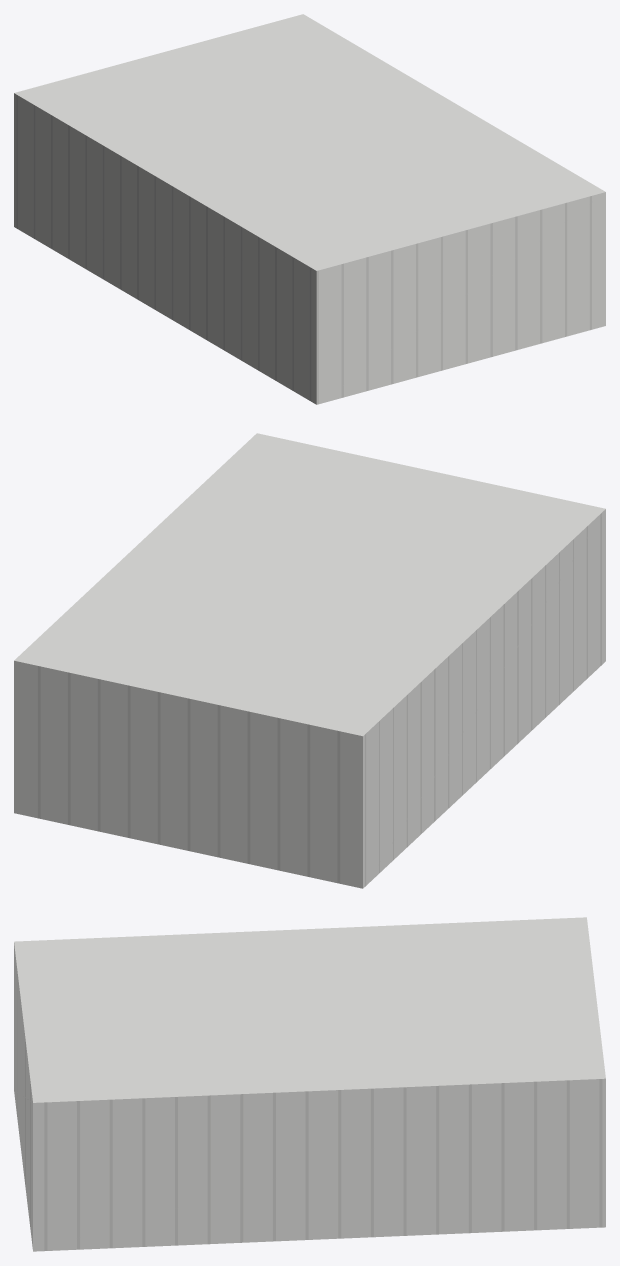
The model's file is haz.glb.
3 views of the same model, one above another, from view 1: azimuth 30°, elevation 25°; view 2: azimuth 150°, elevation 25°; view 3: azimuth 270°, elevation 25° (orthographic). The views are drawn at different scales.
Parts seen in each view (by area): view 1: haz walls, haz roof; view 2: haz roof, haz walls; view 3: haz roof, haz walls.
Boxes of the visible parts, x1,y1,x2,y2 form: haz walls: [14, 93, 605, 404]; haz roof: [14, 14, 605, 270]; haz roof: [14, 433, 605, 736]; haz walls: [14, 509, 605, 888]; haz roof: [14, 917, 605, 1102]; haz walls: [14, 943, 605, 1251].
Size of the model in its own units: 13.39 by 5 by 18.04.
Materials: 2 (1 with a texture image).
